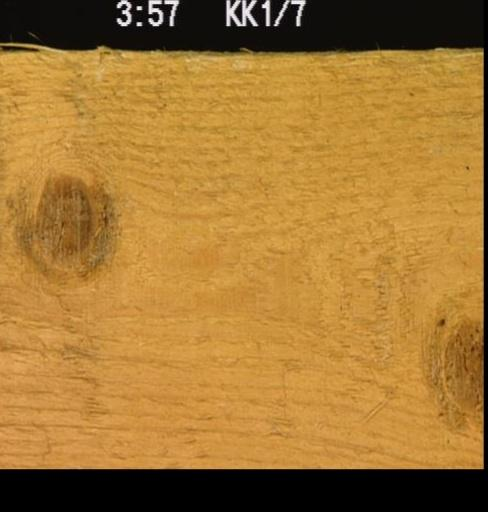sound_knot: (16, 170, 123, 283), (420, 308, 482, 437)
